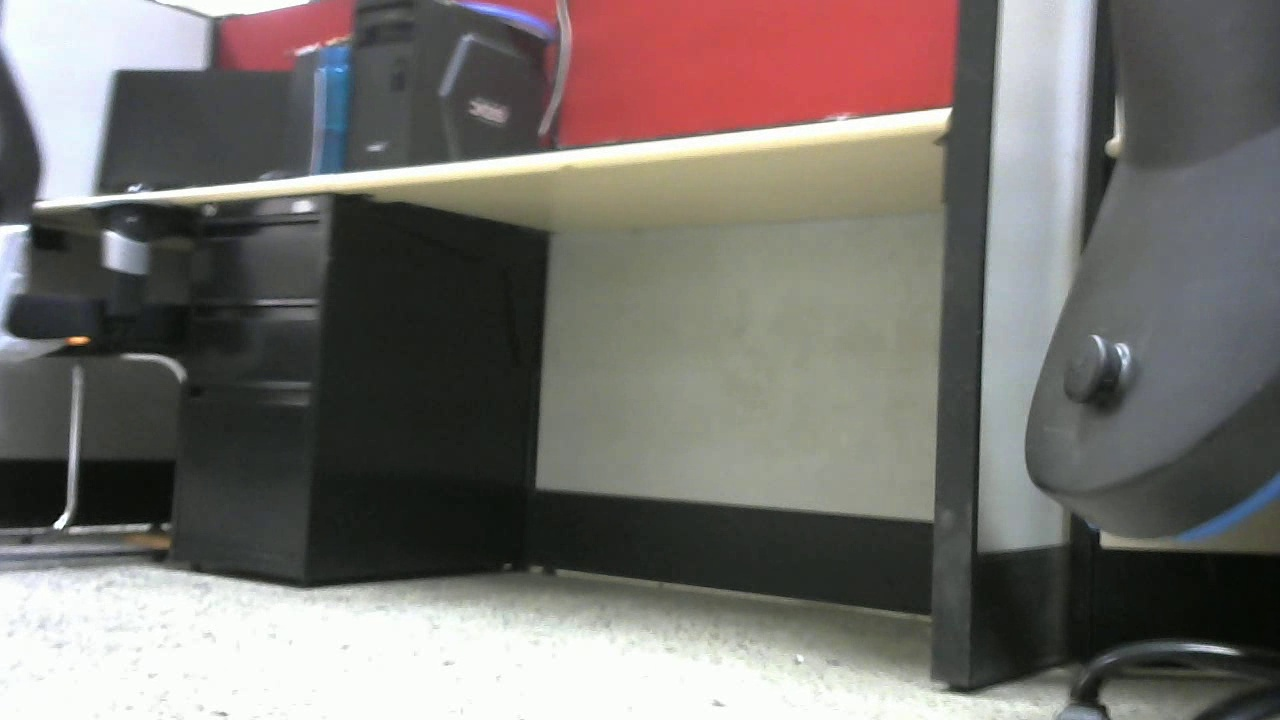chair: (1, 46, 203, 566)
